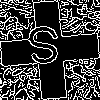S: (25, 25, 63, 74)
